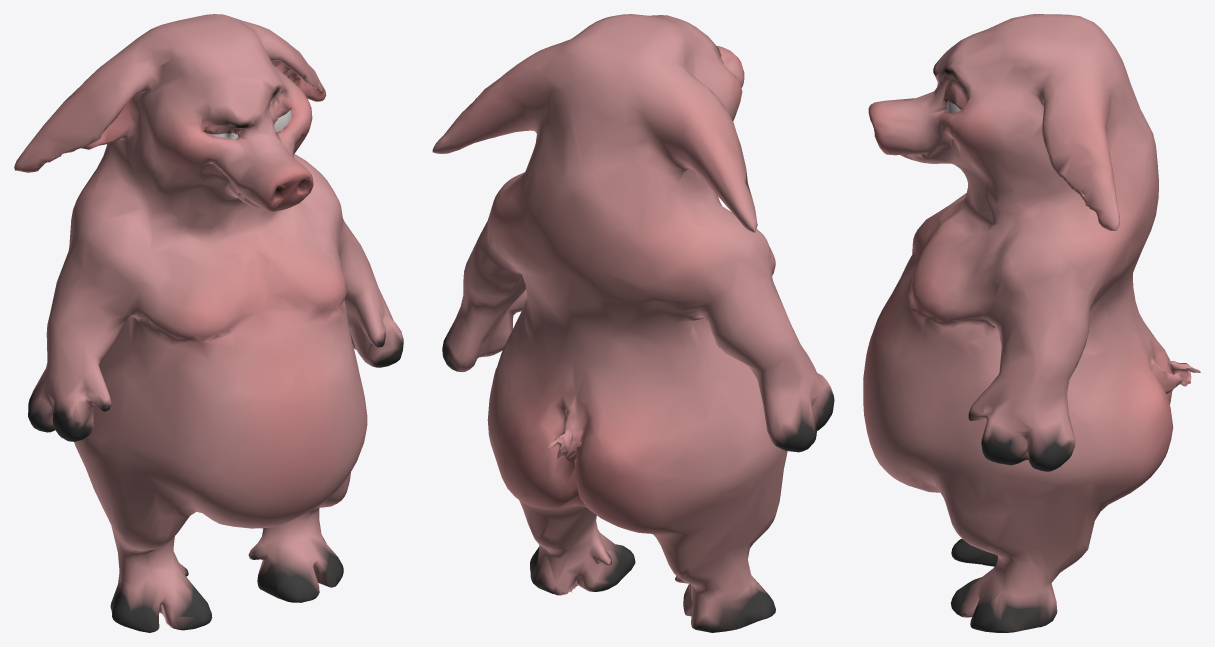
File: big_brother_pig.fbx
The picture shows the model from 3 angles, left to right: view 1: azimuth 30°, elevation 25°; view 2: azimuth 150°, elevation 25°; view 3: azimuth 270°, elevation 25°; orthographic projection. The views are drawn at different scales.
Visible parts, largest first — view 1: Character; view 2: Character; view 3: Character.
Boxes of the visible parts, x1,y1,x2,y2 form: Character: (14, 14, 403, 632); Character: (432, 14, 834, 632); Character: (863, 14, 1200, 632).
Size of the model in its own units: 119 by 180 by 98.36.
